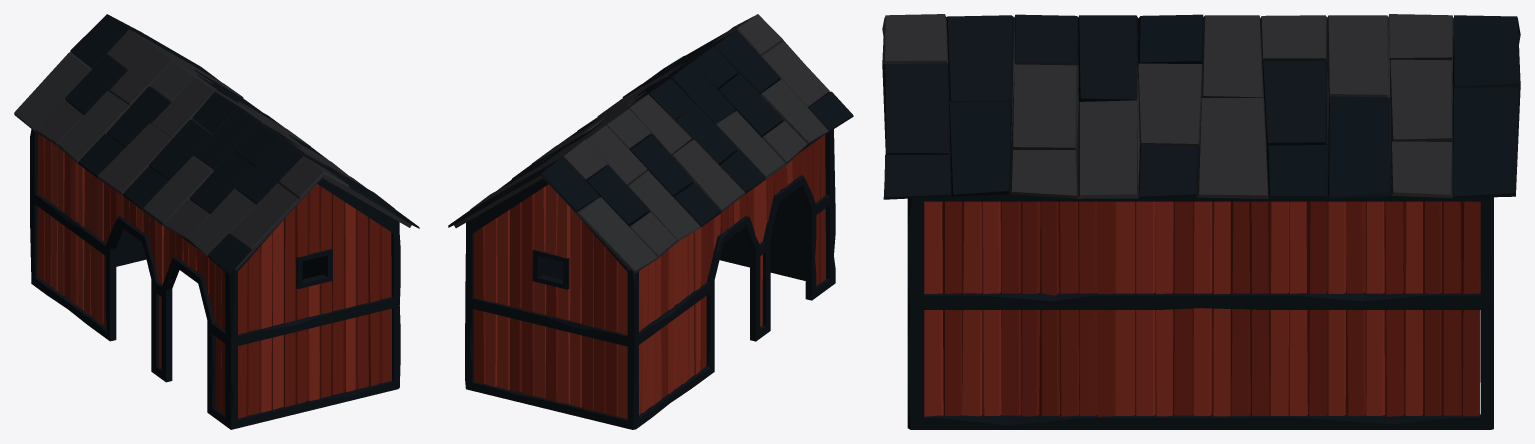
The model's file is Shed_1a.fbx.
3 views of the same model, side by side, from view 1: azimuth 30°, elevation 25°; view 2: azimuth 150°, elevation 25°; view 3: azimuth 270°, elevation 25° (orthographic). The views are drawn at different scales.
Parts seen in each view (by area): view 1: Shed_1a; view 2: Shed_1a; view 3: Shed_1a.
Boxes of the visible parts, x1=… form: Shed_1a: x1=14, y1=14, x2=419, y2=429; Shed_1a: x1=448, y1=14, x2=853, y2=429; Shed_1a: x1=882, y1=14, x2=1520, y2=429.
Bounding box in the file's own units: 129 × 158 × 257.
